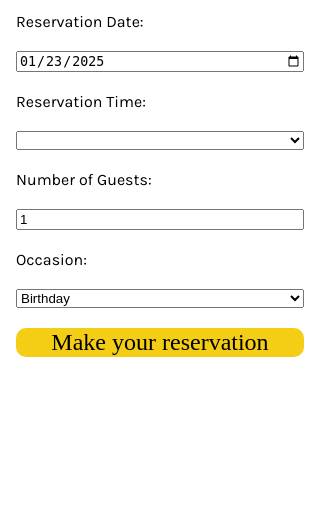
Test: Number of Guests Validation › Required number of guests validation
This screenshot has width=321, height=510.
Clear the number field labelled "Number of Guests:": (160, 220) [16,209,304,230]
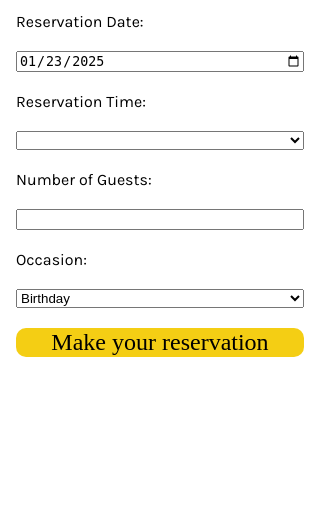
Click the button "Make your reservation": (160, 343) [16,328,304,357]
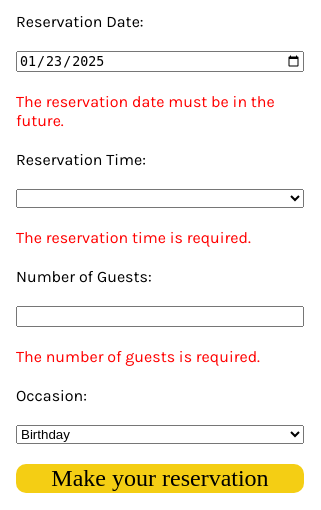
Expected: the text "The number of guests is required." is shown, [16,347,260,366]
